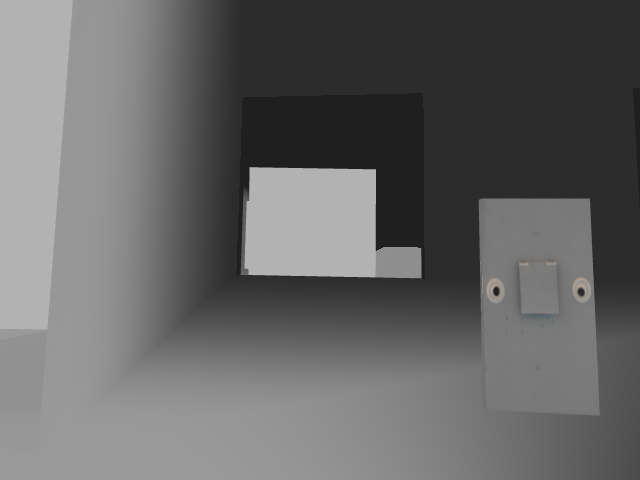facade: (484, 257, 593, 320)
